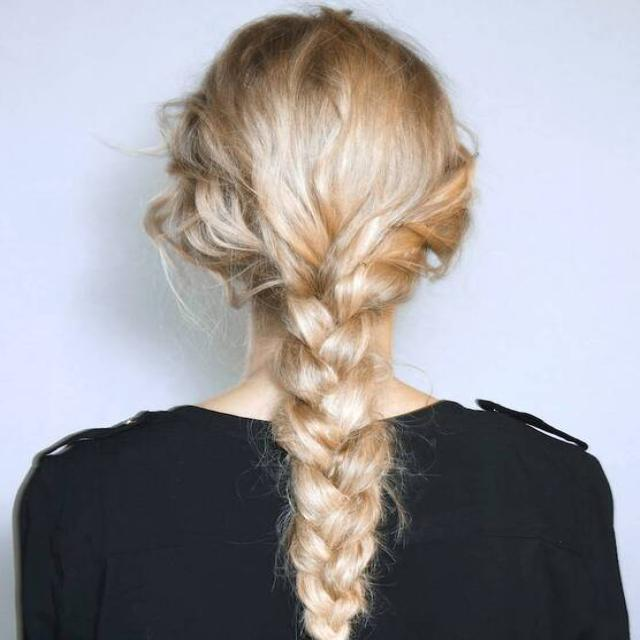Nonhelmet: (144, 5, 479, 322)
